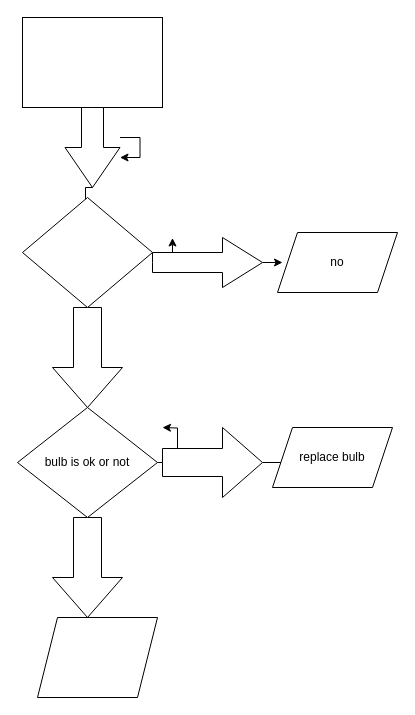
Image size: 415x715. Some labels were removed from this diagram. Here are the shapes that lost their labels. From the top down, the centre of each, then its label:
the point at 92,62: lamp dasant work
the point at 87,252: lamp plogued or not
